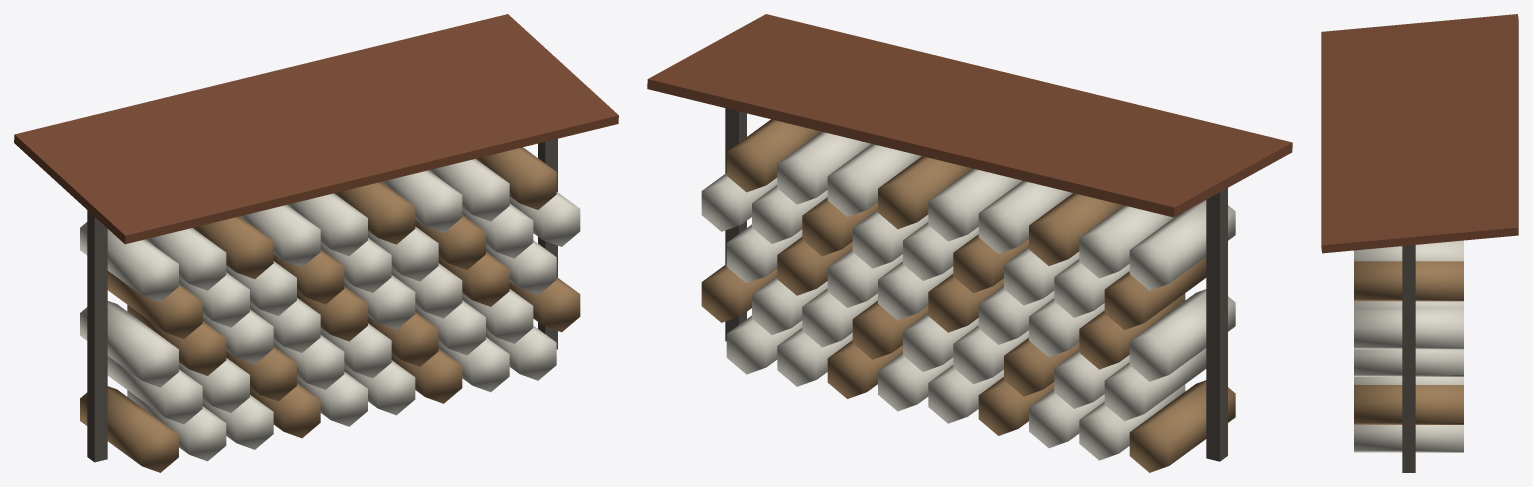
File: woodpile.glb
3 views of the same model, side by side, from view 1: azimuth 30°, elevation 25°; view 2: azimuth 150°, elevation 25°; view 3: azimuth 270°, elevation 25° (orthographic). The views are drawn at different scales.
Parts seen in each view (by area): view 1: Woodpile; view 2: Woodpile; view 3: Woodpile.
Boxes of the visible parts, x1,y1,x2,y2 form: Woodpile: (14, 14, 618, 472); Woodpile: (647, 14, 1292, 472); Woodpile: (1321, 14, 1518, 472).
Bounding box in the file's own units: 2.3 × 1.26 × 0.8995.
